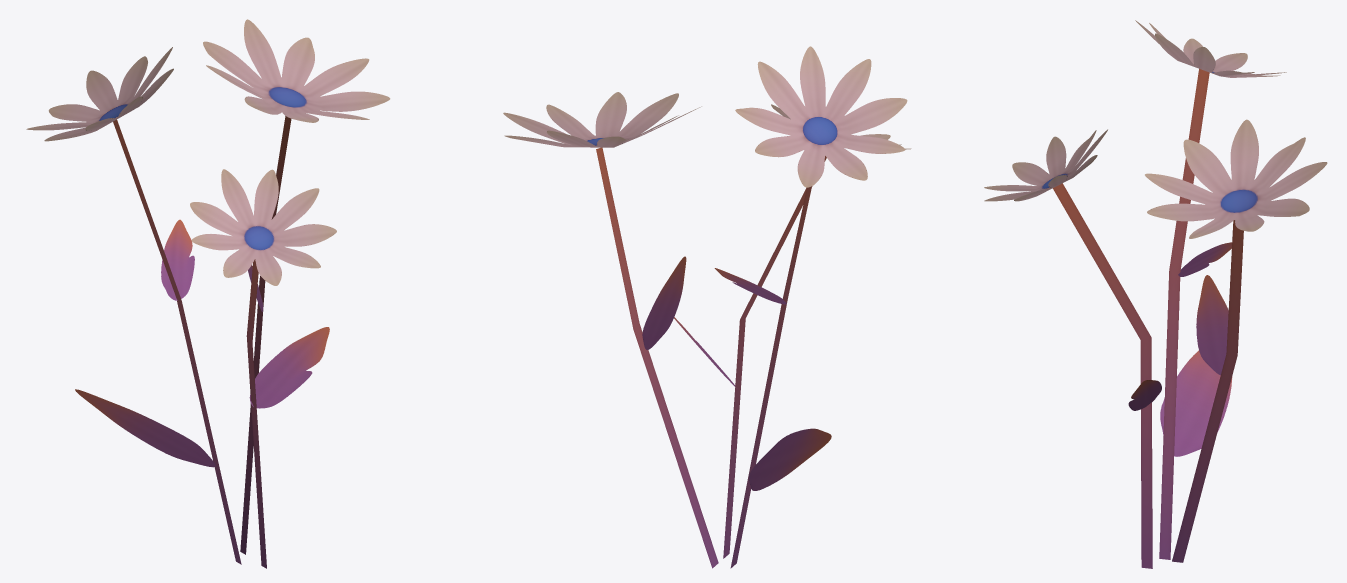
File: Flower02.fbx
3 views of the same model, side by side, from view 1: azimuth 30°, elevation 25°; view 2: azimuth 150°, elevation 25°; view 3: azimuth 270°, elevation 25° (orthographic). The views are drawn at different scales.
Visible parts, largest first — view 1: Flower02; view 2: Flower02; view 3: Flower02.
Part boxes in pixels (left/top/right/bottom): Flower02: left=26, top=19, right=390, bottom=568; Flower02: left=503, top=46, right=911, bottom=568; Flower02: left=984, top=20, right=1327, bottom=568.
Size of the model in its own units: 19.25 by 25.62 by 16.12.
